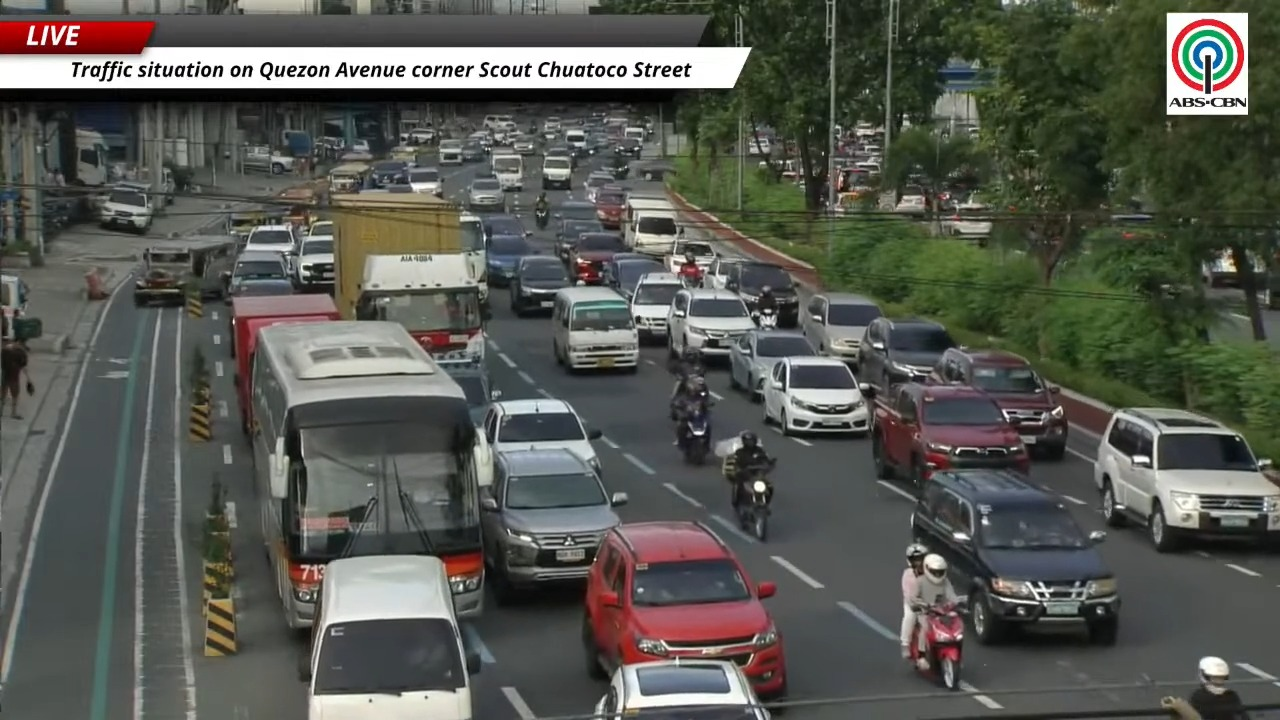bus: (251, 321, 482, 628)
car: (911, 469, 1120, 645), (582, 521, 786, 698), (1094, 407, 1279, 552), (481, 449, 627, 603), (930, 347, 1068, 459), (596, 658, 769, 719), (483, 398, 602, 473), (762, 356, 870, 435), (856, 317, 957, 390), (667, 288, 755, 357), (729, 330, 814, 401), (800, 293, 882, 363), (724, 260, 798, 327), (437, 355, 501, 428), (628, 271, 682, 342), (509, 255, 571, 316), (133, 243, 191, 306), (225, 250, 291, 303), (604, 253, 666, 300), (568, 232, 624, 284), (99, 185, 154, 233), (486, 235, 536, 286), (555, 217, 606, 263), (292, 236, 334, 289), (941, 201, 992, 238), (666, 238, 717, 273), (226, 279, 295, 302), (243, 225, 296, 254), (480, 213, 531, 241), (594, 184, 626, 228), (467, 178, 506, 212), (703, 255, 742, 288), (541, 153, 572, 189), (407, 167, 442, 196), (370, 160, 407, 186), (583, 172, 614, 203), (555, 200, 597, 221), (544, 144, 577, 169), (634, 160, 675, 180), (438, 140, 463, 165), (614, 138, 642, 158), (467, 131, 492, 153), (460, 142, 486, 163), (587, 132, 611, 154), (512, 136, 536, 155), (307, 220, 335, 236), (543, 117, 561, 133)
motorcycle: (909, 604, 964, 690), (737, 460, 775, 542), (669, 372, 710, 420), (679, 405, 710, 465), (677, 264, 702, 287), (753, 308, 777, 329), (535, 209, 548, 229)
truck: (330, 191, 486, 356), (864, 383, 1029, 488), (329, 191, 462, 318), (228, 294, 339, 434), (355, 254, 485, 363), (623, 196, 682, 256), (460, 212, 488, 306), (75, 127, 109, 186)
